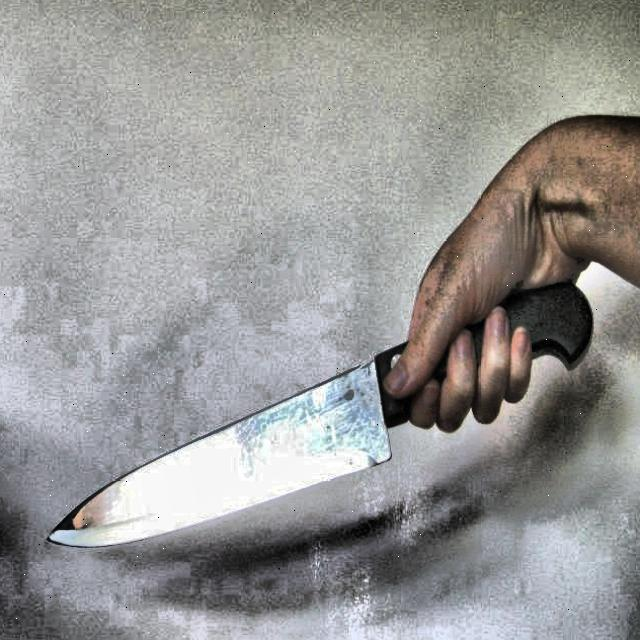knife: (48, 284, 593, 548)
